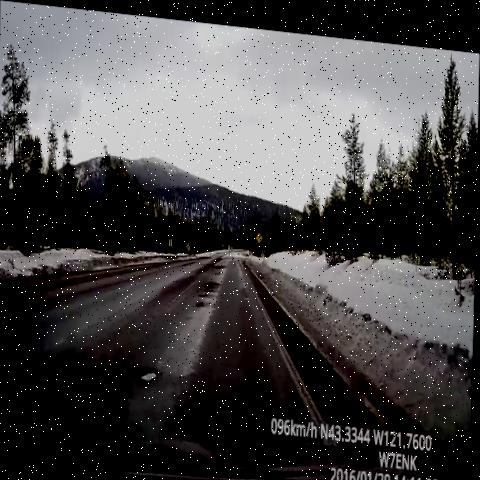pothole: (134, 347, 168, 389), (198, 270, 221, 296), (195, 287, 212, 310), (211, 255, 226, 269)
